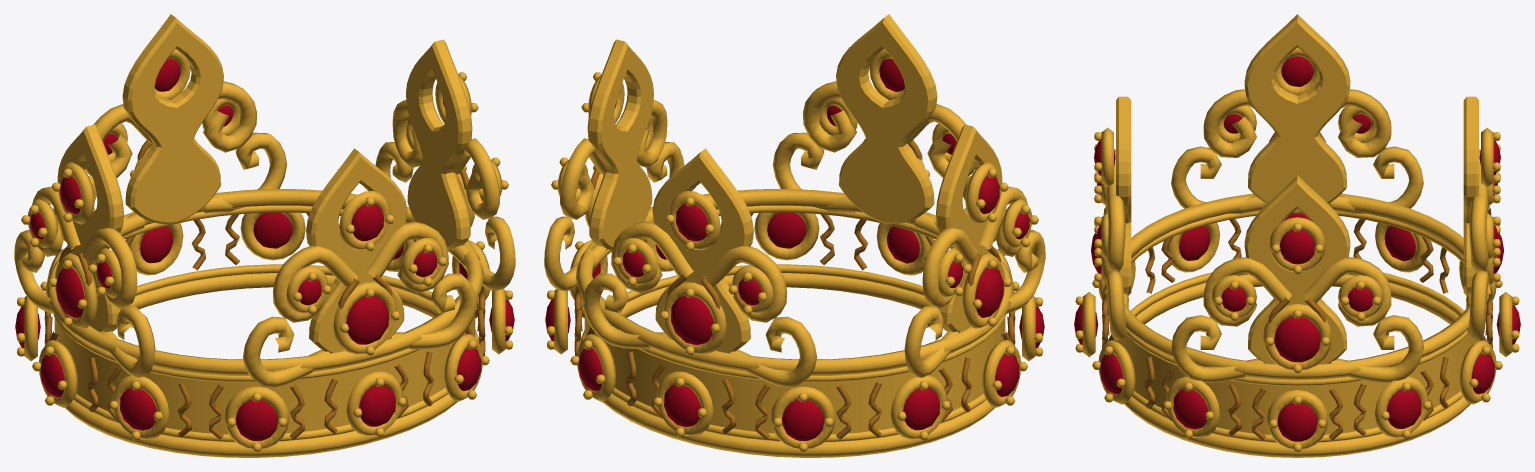
File: zuozuo-crown.glb
The picture shows the model from 3 angles, left to right: view 1: azimuth 30°, elevation 25°; view 2: azimuth 150°, elevation 25°; view 3: azimuth 270°, elevation 25°; orthographic projection. The views are drawn at different scales.
Visible parts, largest first — view 1: immutable-ornate-ruby-crown; view 2: immutable-ornate-ruby-crown; view 3: immutable-ornate-ruby-crown.
Boxes of the visible parts, x1,y1,x2,y2 form: immutable-ornate-ruby-crown: [14, 14, 515, 457]; immutable-ornate-ruby-crown: [544, 14, 1045, 457]; immutable-ornate-ruby-crown: [1074, 14, 1520, 457].
Size of the model in its own units: 1.3 by 0.8132 by 1.2.
